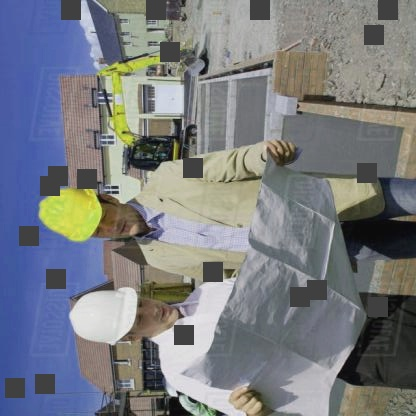white: (63, 281, 144, 347)
yellow: (35, 183, 107, 247)
